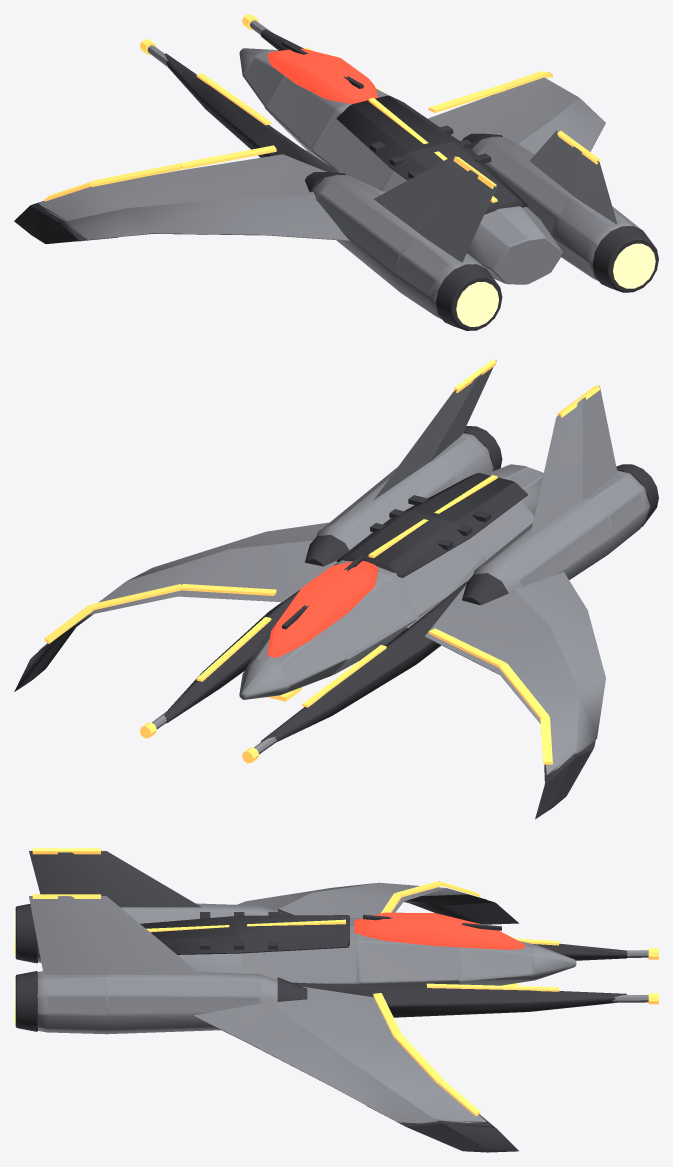
File: fighter.glb
3 views of the same model, one above another, from view 1: azimuth 30°, elevation 25°; view 2: azimuth 150°, elevation 25°; view 3: azimuth 270°, elevation 25° (orthographic). The views are drawn at different scales.
Visible parts, largest first — view 1: Fighter; view 2: Fighter; view 3: Fighter.
Boxes of the visible parts, x1,y1,x2,y2 form: Fighter: [14, 14, 658, 330]; Fighter: [14, 359, 658, 819]; Fighter: [14, 848, 658, 1152].
Size of the model in its own units: 6.32 by 2.16 by 7.56.
